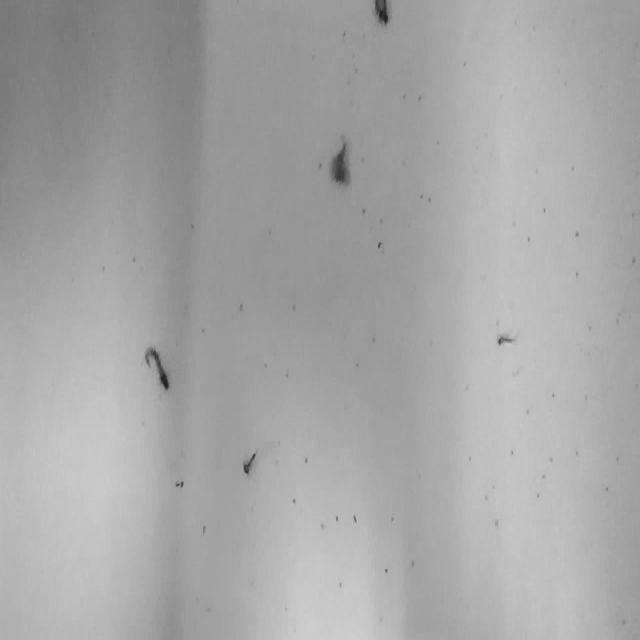larvas: (143, 344, 171, 390), (330, 137, 350, 185), (242, 446, 258, 476), (374, 0, 391, 26), (497, 333, 518, 345)
